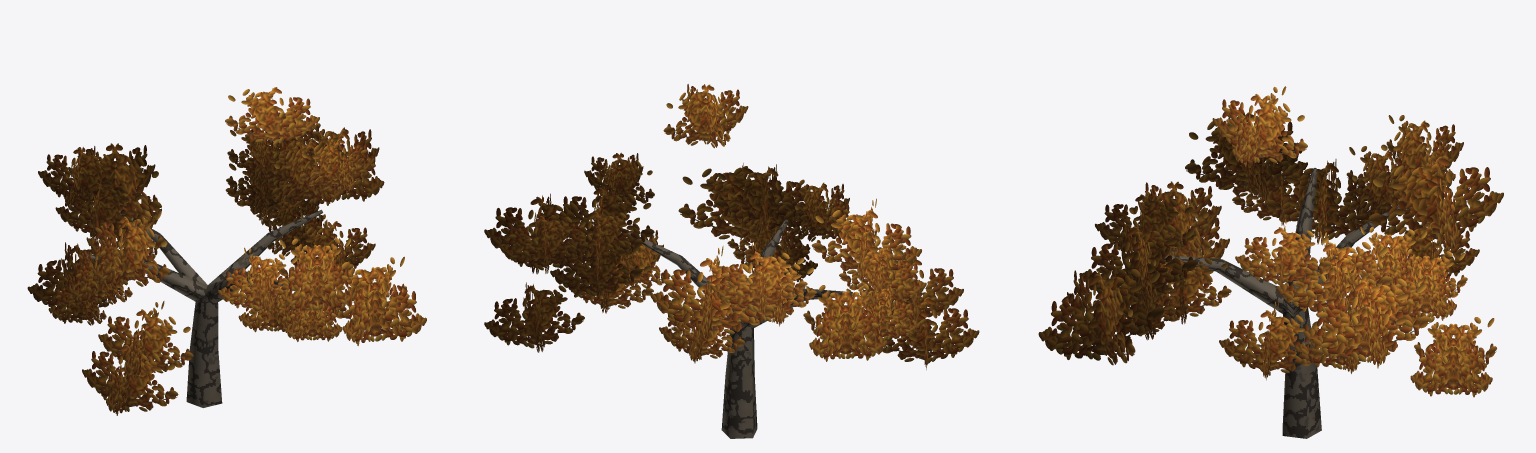
File: oak0_autumn_lod1.fbx
3 renders of one model, left to right at view 1: azimuth 30°, elevation 25°; view 2: azimuth 150°, elevation 25°; view 3: azimuth 270°, elevation 25°, orthographic. The views are drawn at different scales.
Visible parts, largest first — view 1: oak0_autumn_lod1; view 2: oak0_autumn_lod1; view 3: oak0_autumn_lod1.
Boxes of the visible parts, <box> form: oak0_autumn_lod1: <box>27,87,426,415</box>; oak0_autumn_lod1: <box>484,84,979,438</box>; oak0_autumn_lod1: <box>1038,86,1503,438</box>.
Bounding box in the file's own units: 12.18 × 10.5 × 11.31.
Materials: 2 (2 with a texture image).
